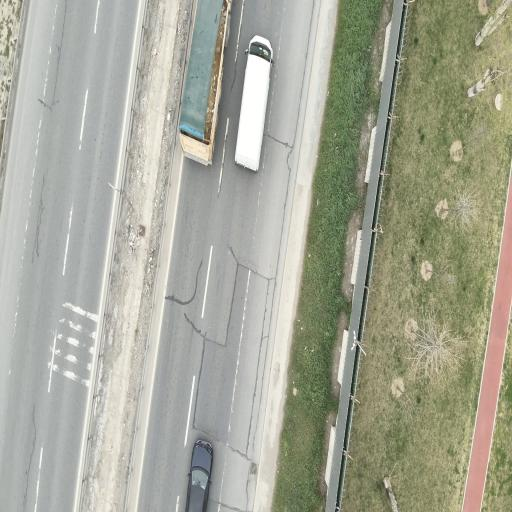car: (186, 440, 212, 511)
truck: (179, 0, 231, 164), (235, 36, 272, 171)
